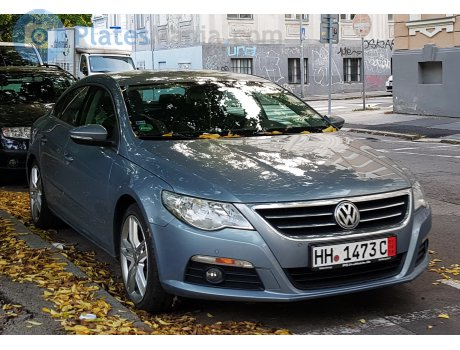License Plates: (318, 247, 384, 258)
